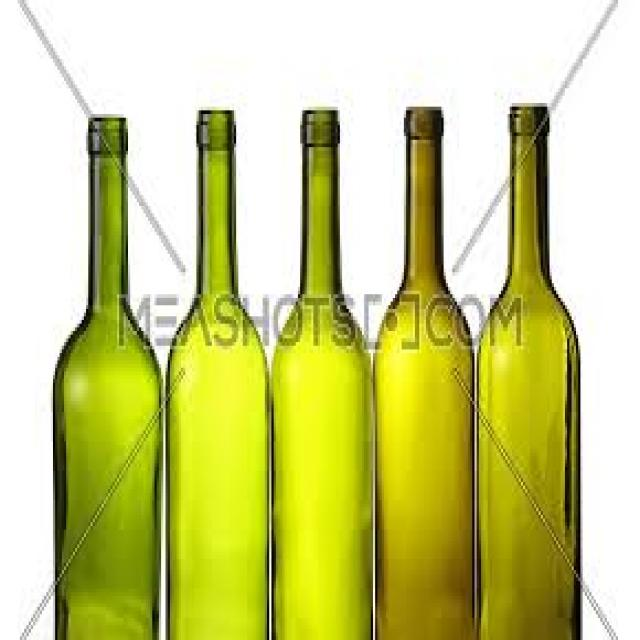Glass: (476, 95, 584, 640), (52, 110, 163, 640), (373, 100, 478, 640), (270, 102, 375, 640), (167, 102, 272, 640)
